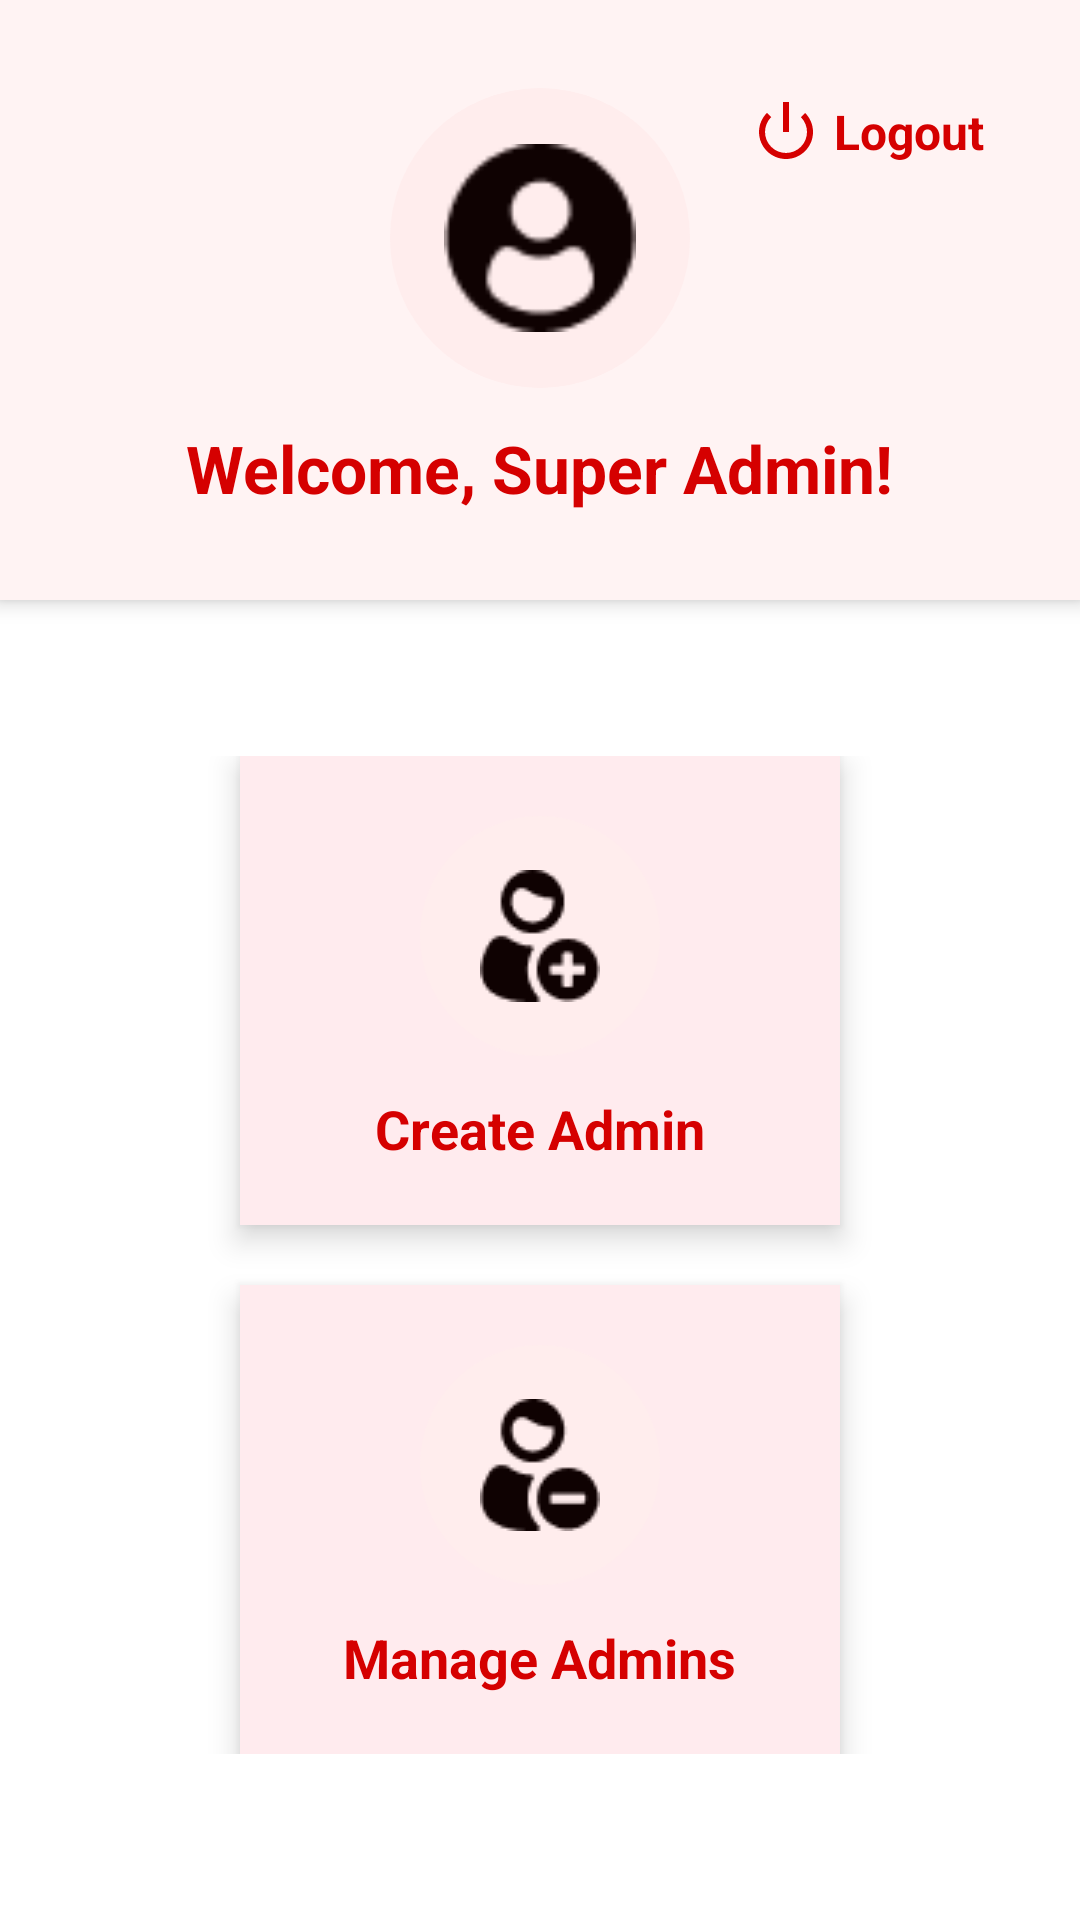

Screen size 1080 x 1920. Icon name, then its center in pixels as (x,y):
lock power off: (786,130)
remove admin: (540,1465)
